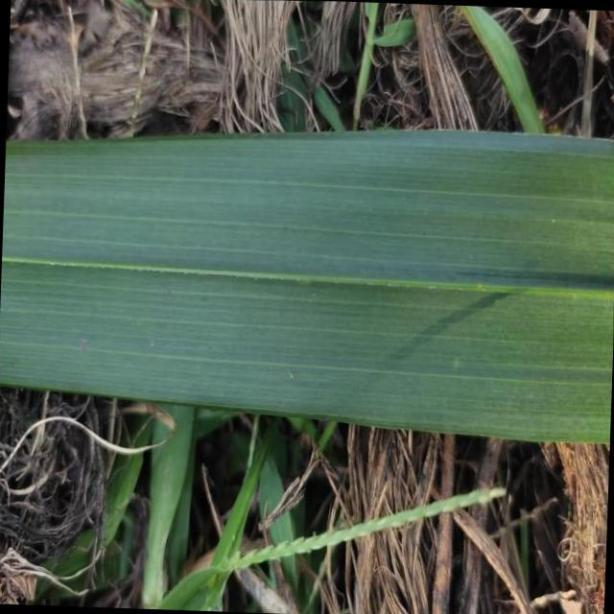Healthy: (0, 132, 614, 444)
